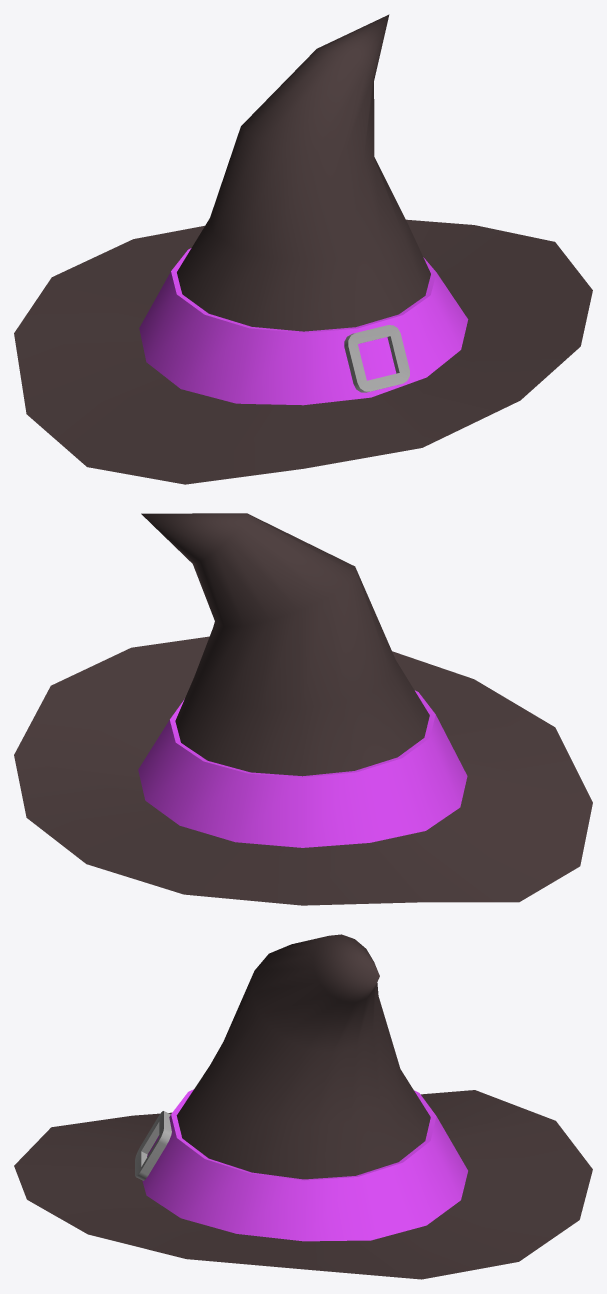
File: wizard hat.fbx
The picture shows the model from 3 angles, top to bottom: view 1: azimuth 30°, elevation 25°; view 2: azimuth 150°, elevation 25°; view 3: azimuth 270°, elevation 25°; orthographic projection.
Visible parts, largest first — view 1: wizard_hat1; view 2: wizard_hat1; view 3: wizard_hat1.
Boxes of the visible parts, x1=… form: wizard_hat1: x1=14, y1=14, x2=592, y2=484; wizard_hat1: x1=14, y1=513, x2=592, y2=905; wizard_hat1: x1=14, y1=934, x2=592, y2=1279.
Size of the model in its own units: 3.6 by 2.16 by 3.63.
